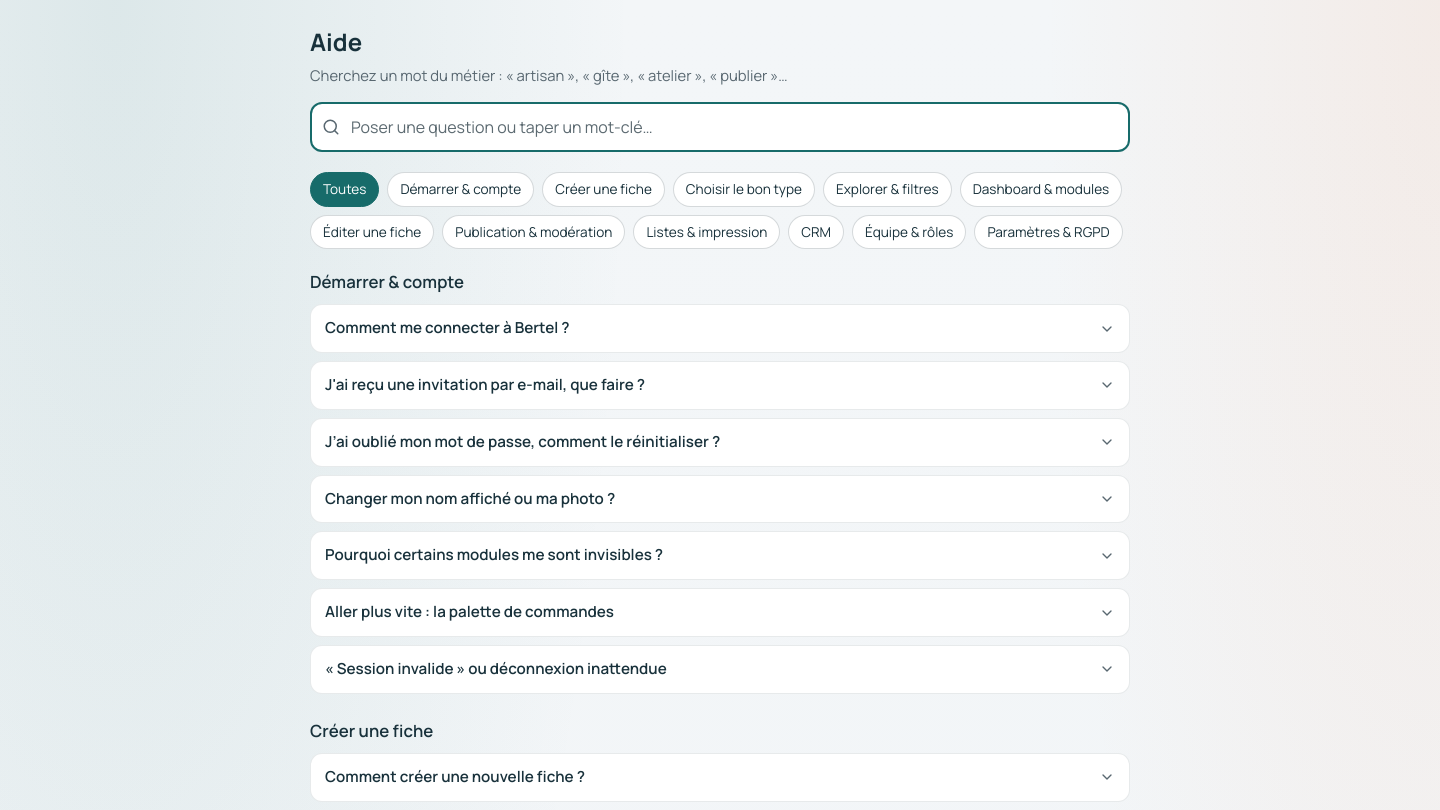
Scenario: HelpPage › état vide : message + suggestion
In the search field named "Rechercher dans l'aide": point(720, 127) [310, 102, 1130, 152], type "zzzzzzz"
Wait 150 ms
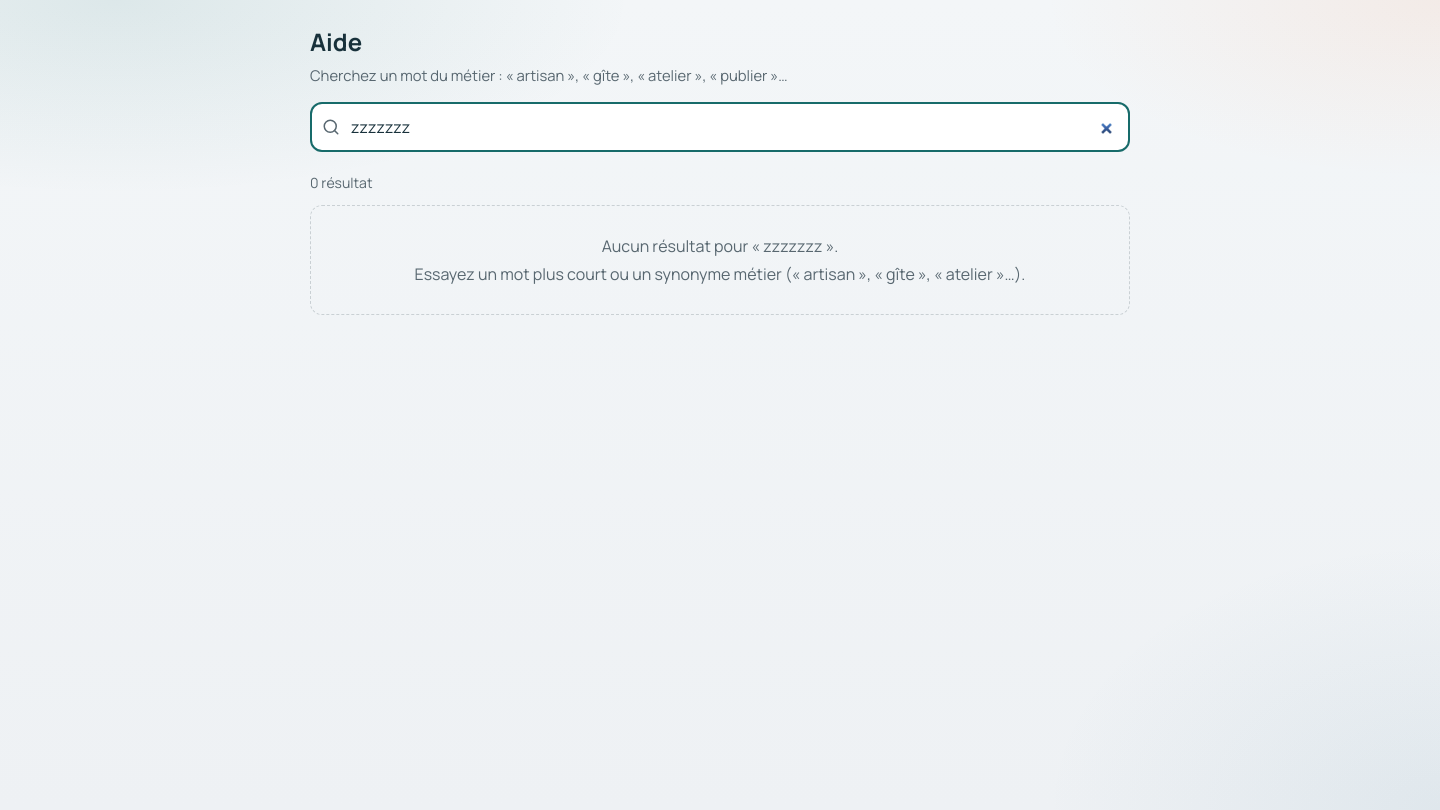
Now the text "Aucun résultat pour « zzzzzzz »." is shown, box [602, 235, 838, 257]
